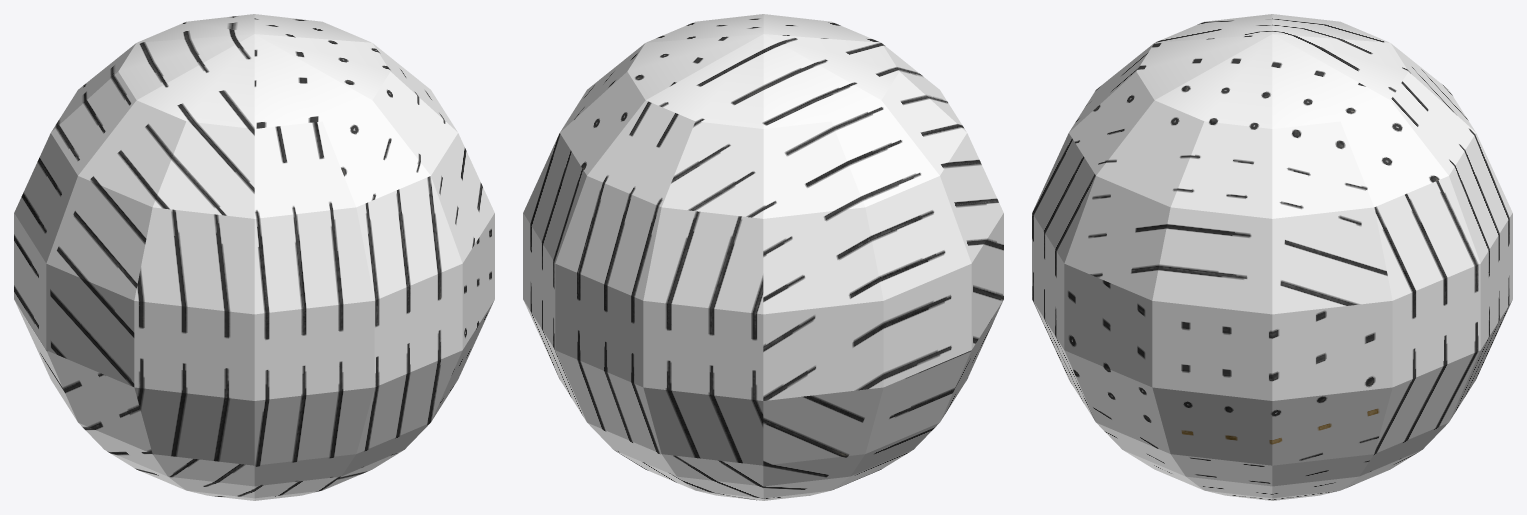
File: coco paso 1 - copia.fbx
3 renders of one model, left to right at view 1: azimuth 30°, elevation 25°; view 2: azimuth 150°, elevation 25°; view 3: azimuth 270°, elevation 25°, orthographic.
Visible parts, largest first — view 1: paso_1_coco.2obj; view 2: paso_1_coco.2obj; view 3: paso_1_coco.2obj.
Boxes of the visible parts, left/top/right/bottom form: paso_1_coco.2obj: left=14, top=14, right=494, bottom=500; paso_1_coco.2obj: left=523, top=14, right=1003, bottom=500; paso_1_coco.2obj: left=1032, top=14, right=1512, bottom=500.
Size of the model in its own units: 201 by 205 by 201.
